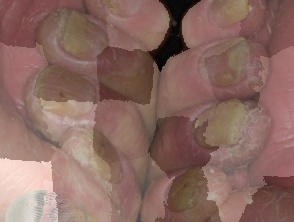Nail_psoriasis: (6, 47, 134, 166), (155, 24, 281, 119), (53, 113, 155, 221), (28, 2, 147, 89), (164, 99, 275, 171), (138, 158, 239, 222), (179, 0, 272, 50), (83, 0, 172, 41)
